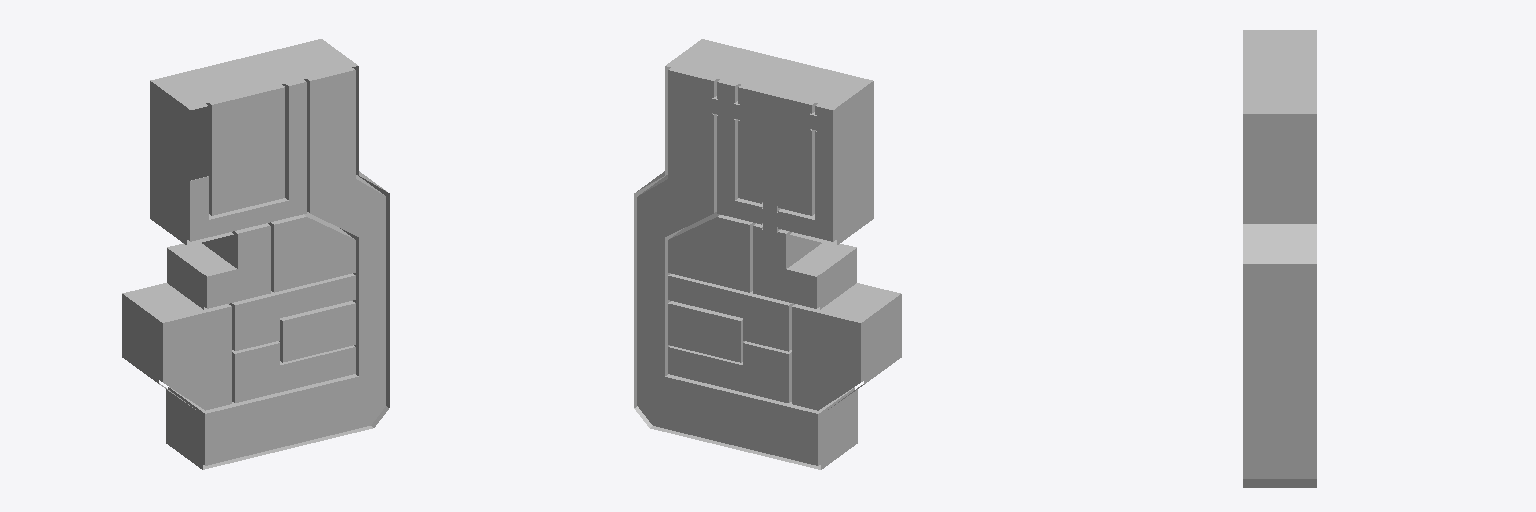
File: f_Floor2.obj
3 renders of one model, left to right at view 1: azimuth 30°, elevation 25°; view 2: azimuth 150°, elevation 25°; view 3: azimuth 270°, elevation 25°, orthographic.
Parts seen in each view (by area): view 1: 2ndFloor_(1).001; view 2: 2ndFloor_(1).001; view 3: 2ndFloor_(1).001.
Boxes of the visible parts, x1,y1,x2,y2 form: 2ndFloor_(1).001: [122, 39, 389, 469]; 2ndFloor_(1).001: [634, 39, 901, 469]; 2ndFloor_(1).001: [1243, 30, 1316, 487].
Size of the model in its own units: 143 by 218 by 40.25.